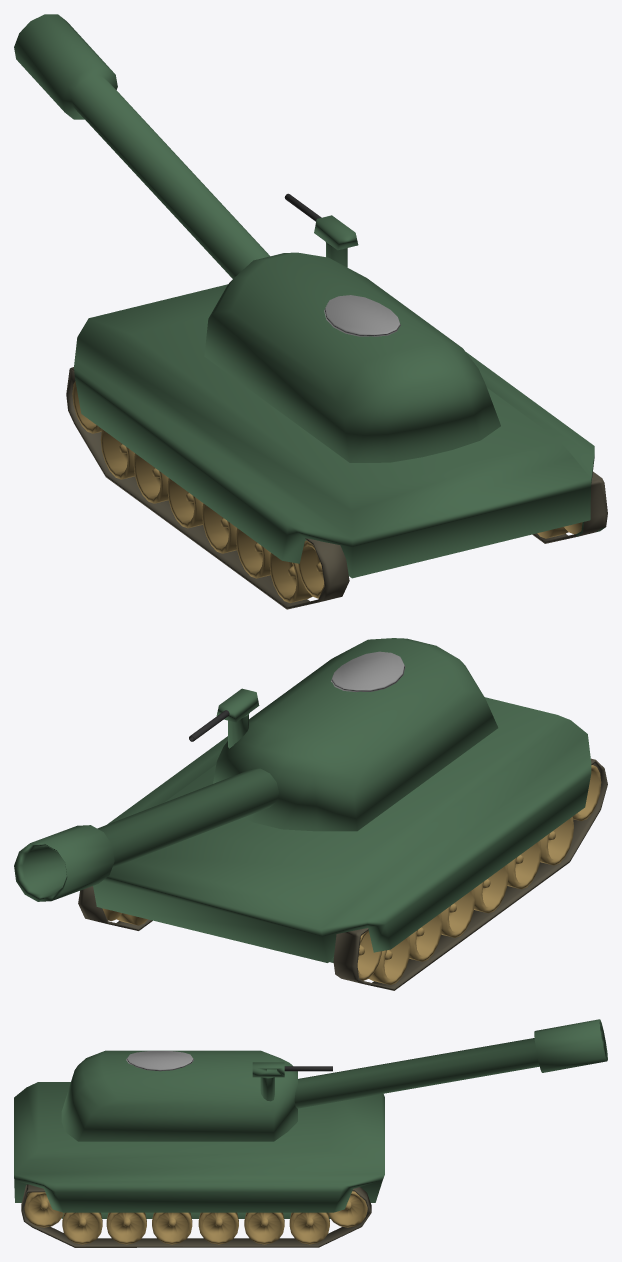
Rendered from mbt.glb.
3 views of the same model, one above another, from view 1: azimuth 30°, elevation 25°; view 2: azimuth 150°, elevation 25°; view 3: azimuth 270°, elevation 25° (orthographic). The views are drawn at different scales.
Parts seen in each view (by area): view 1: Tank; view 2: Tank; view 3: Tank.
Boxes of the visible parts, bbox=[...] form: Tank: bbox=[14, 14, 607, 609]; Tank: bbox=[14, 638, 607, 990]; Tank: bbox=[14, 1019, 607, 1247].
Bounding box in the file's own units: 1.63 × 1.37 × 4.04.
